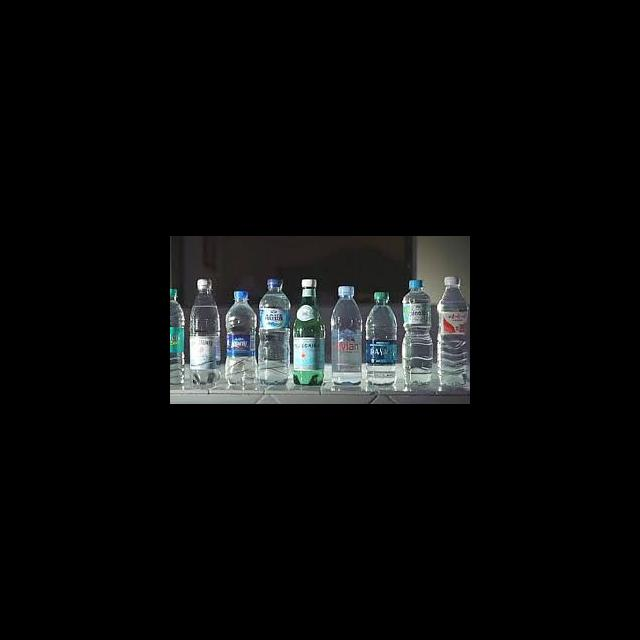plastic: (435, 275, 467, 392), (291, 278, 324, 386), (400, 279, 433, 386), (188, 278, 219, 388), (224, 289, 258, 387), (257, 276, 287, 385), (364, 290, 397, 387), (330, 283, 361, 386), (170, 287, 185, 387), (365, 338, 396, 365), (437, 311, 466, 334), (402, 302, 429, 324), (336, 284, 352, 296), (195, 278, 211, 290), (232, 288, 247, 300), (372, 290, 388, 301), (265, 277, 281, 288), (443, 275, 460, 285), (407, 278, 423, 288), (300, 278, 317, 287), (170, 287, 176, 297)
